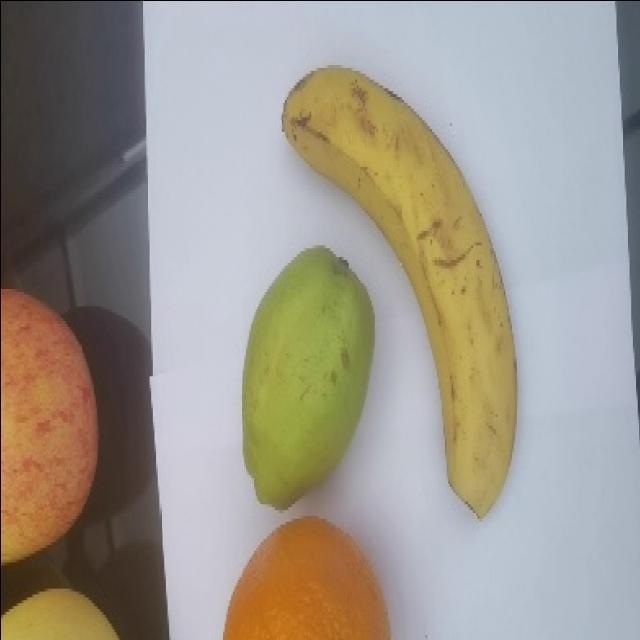Apple: (0, 287, 99, 565)
Banana: (280, 63, 518, 519)
Orange: (222, 515, 391, 639)
